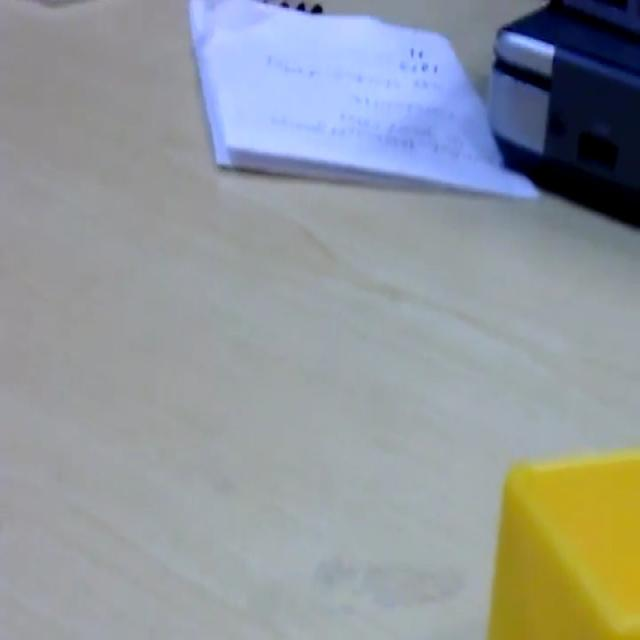yellow_block: (486, 447, 638, 636)
